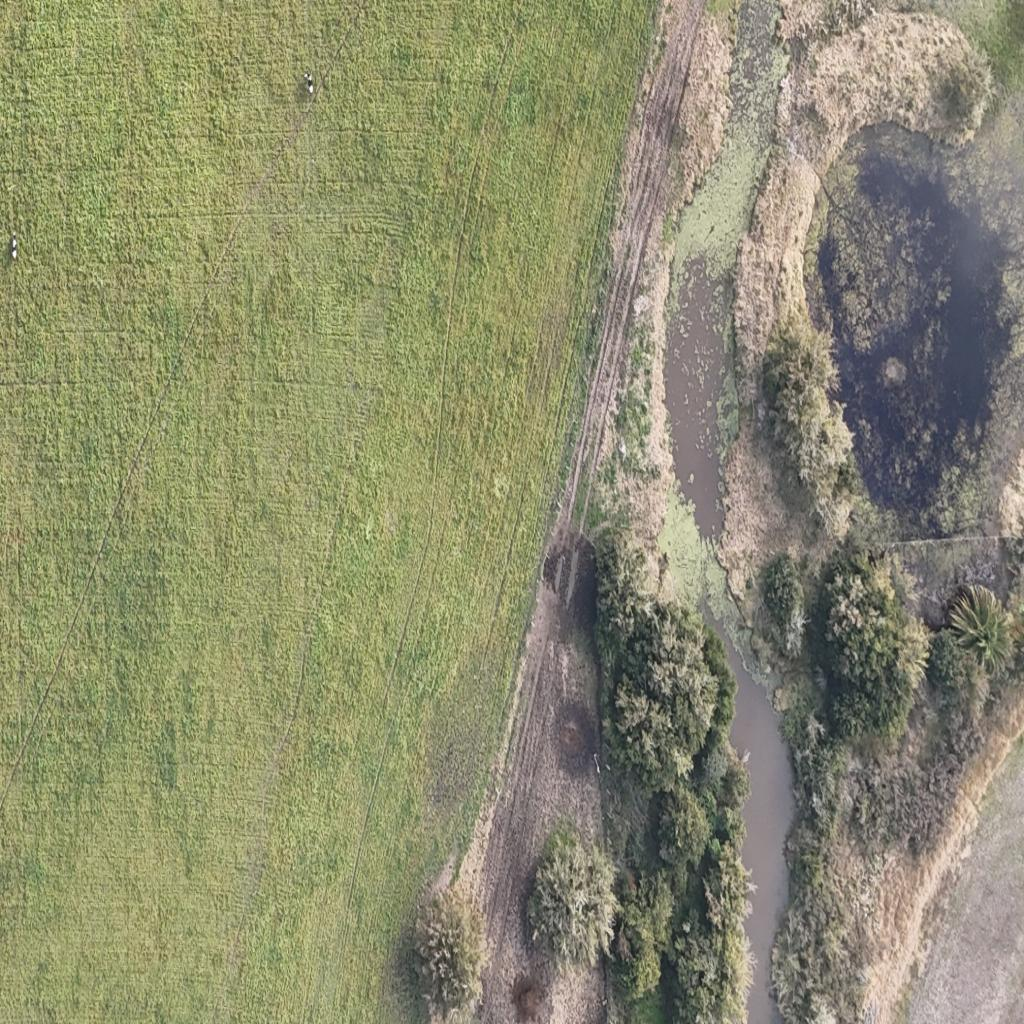cow: (304, 69, 314, 94), (12, 236, 18, 260)
